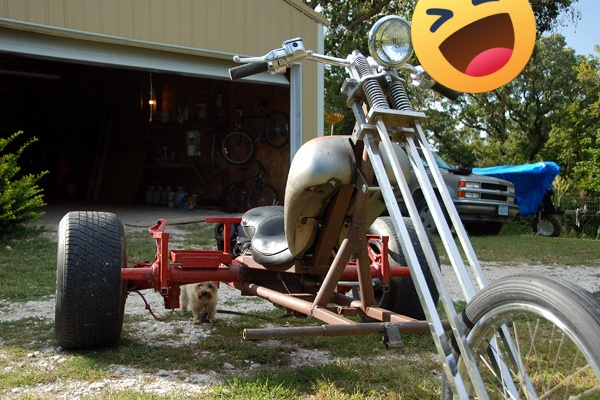haha: (411, 0, 536, 93)
